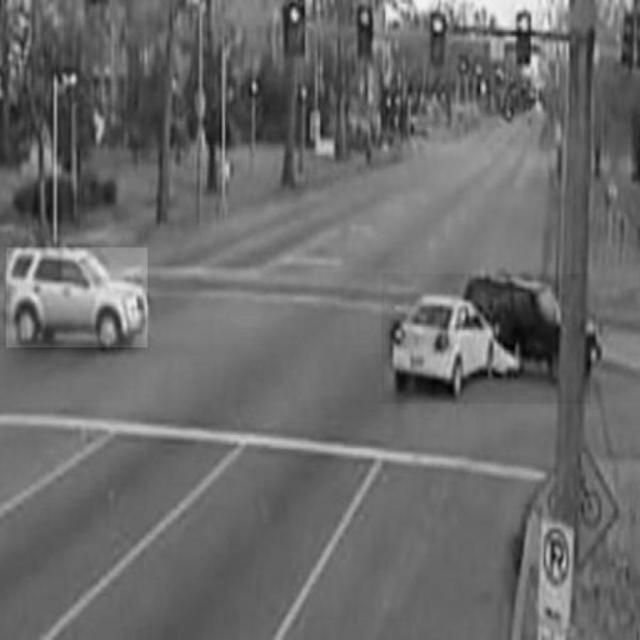accident: (381, 274, 589, 404)
vehicle: (7, 247, 148, 348)
